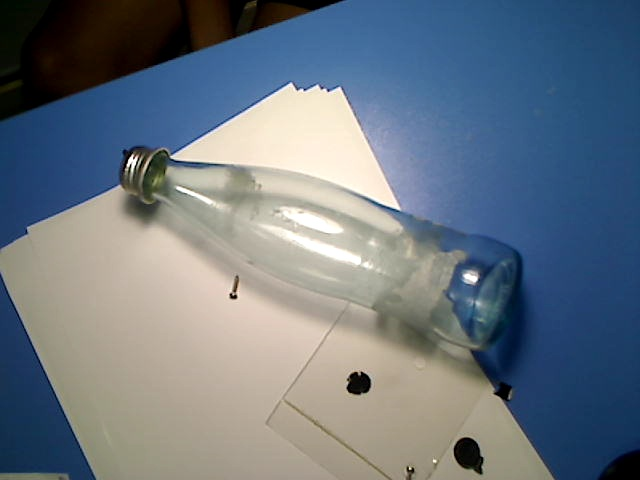bottle: (117, 145, 528, 353)
